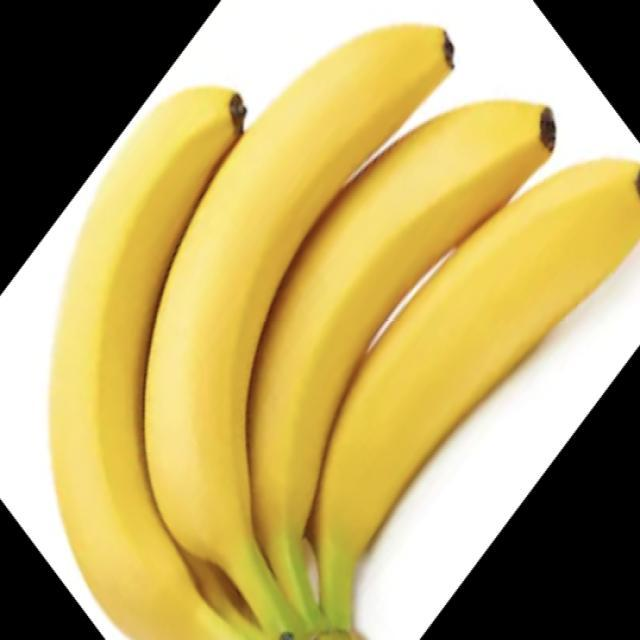Banana: (44, 21, 639, 639)
